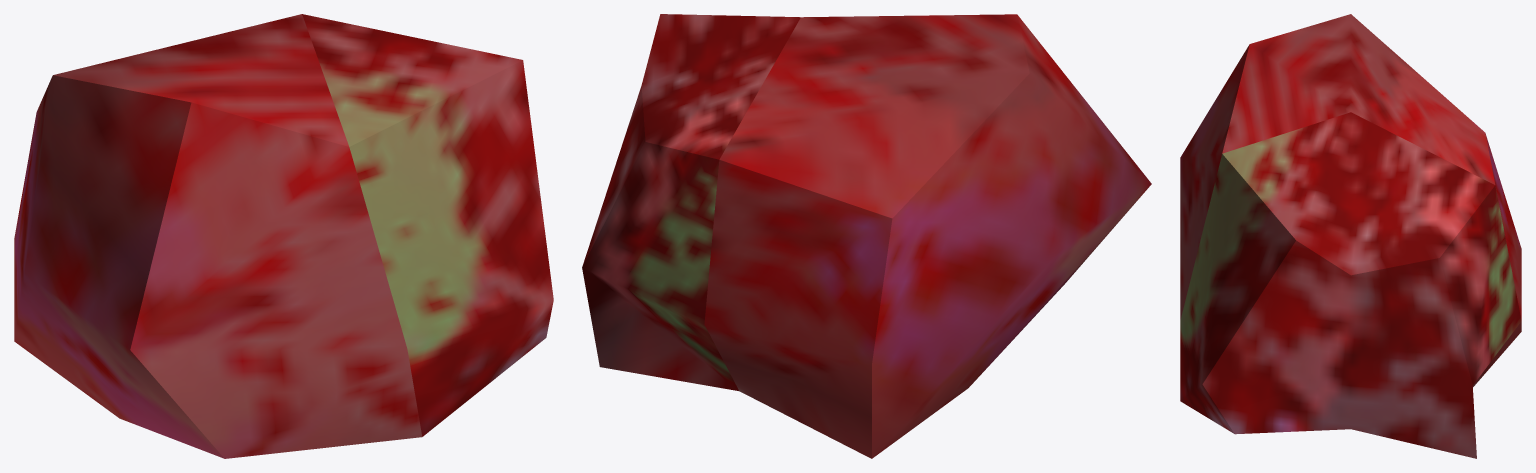
File: gojjs7.fbx
3 views of the same model, side by side, from view 1: azimuth 30°, elevation 25°; view 2: azimuth 150°, elevation 25°; view 3: azimuth 270°, elevation 25° (orthographic). The views are drawn at different scales.
Visible parts, largest first — view 1: pCube1; view 2: pCube1; view 3: pCube1.
Boxes of the visible parts, x1=… form: pCube1: x1=14, y1=14, x2=553, y2=458; pCube1: x1=582, y1=14, x2=1151, y2=458; pCube1: x1=1180, y1=14, x2=1521, y2=458.
Size of the model in its own units: 1.3 by 0.9426 by 1.
Materials: 1 (1 with a texture image).
